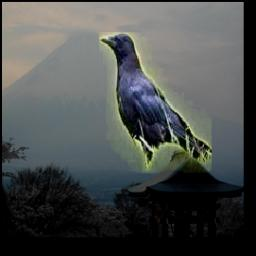Crow: (100, 33, 213, 174)
